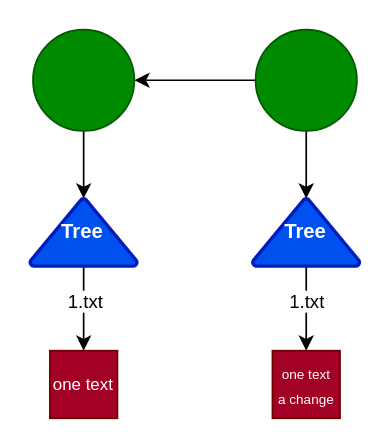
Image size: 390x448. Some labels were removed from this diagram. The shapes that lost their labels are listed below. From the top down, each one's box as (x1, y1, x2, y2) in pixels, then its label:
(31, 28, 134, 131): Initial commit
(254, 28, 357, 131): Second commit
